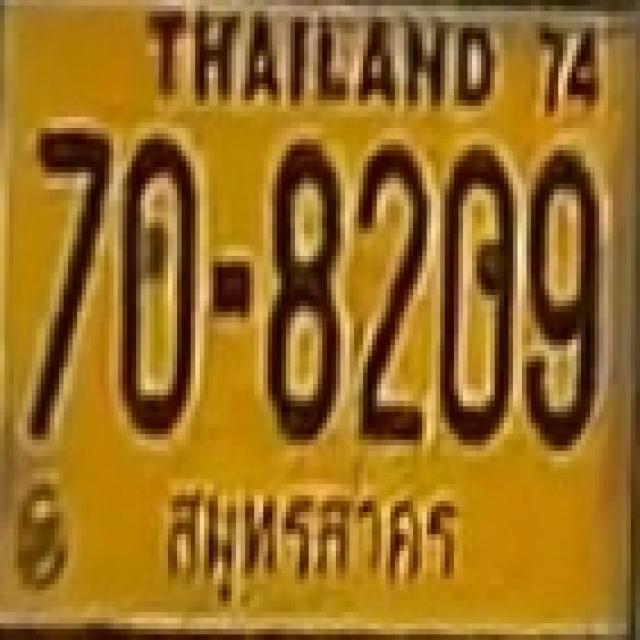0: (116, 134, 202, 440), (441, 143, 518, 451)
2: (354, 142, 430, 439)
7: (19, 125, 109, 441)
8: (263, 136, 336, 437)
9: (522, 147, 612, 446)
SKN: (150, 473, 474, 607)
